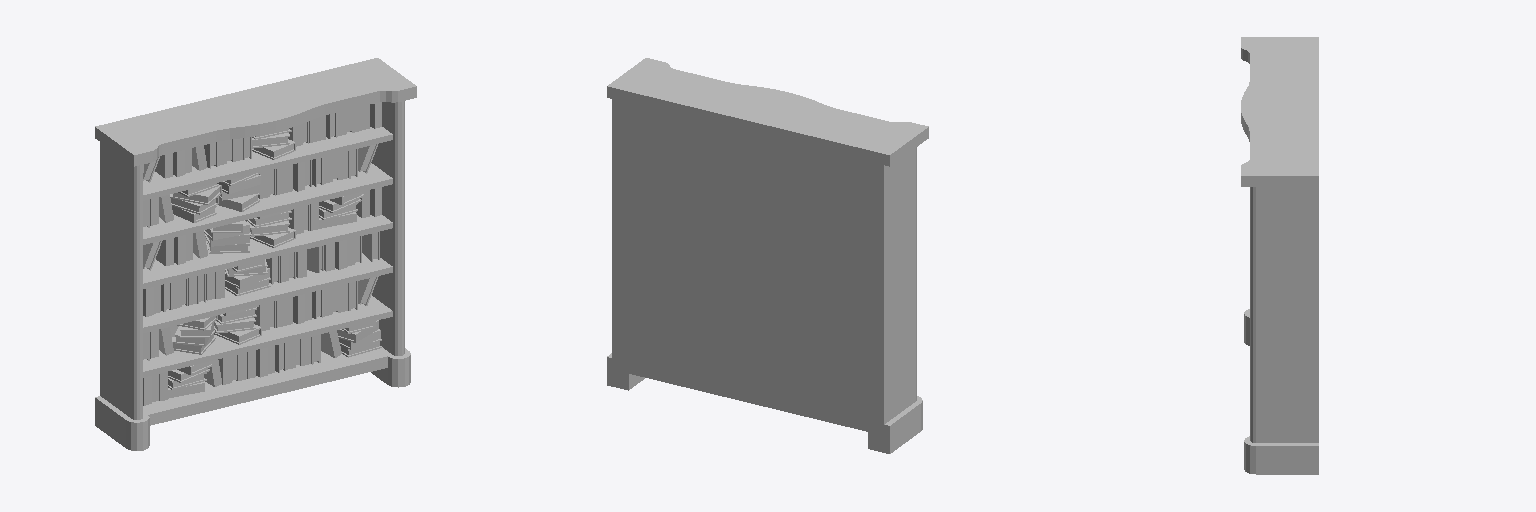
Rendered from BooksBig.obj.
The picture shows the model from 3 angles: view 1: azimuth 30°, elevation 25°; view 2: azimuth 150°, elevation 25°; view 3: azimuth 270°, elevation 25°; orthographic projection.
Visible parts, largest first — view 1: Cylinder005, Object001; view 2: Cylinder005; view 3: Cylinder005.
Boxes of the visible parts, x1,y1,x2,y2 form: Cylinder005: [95, 58, 416, 450]; Object001: [143, 102, 381, 405]; Cylinder005: [607, 58, 928, 453]; Cylinder005: [1241, 37, 1318, 474].
Size of the model in its own units: 2.08 by 2.1 by 0.5.